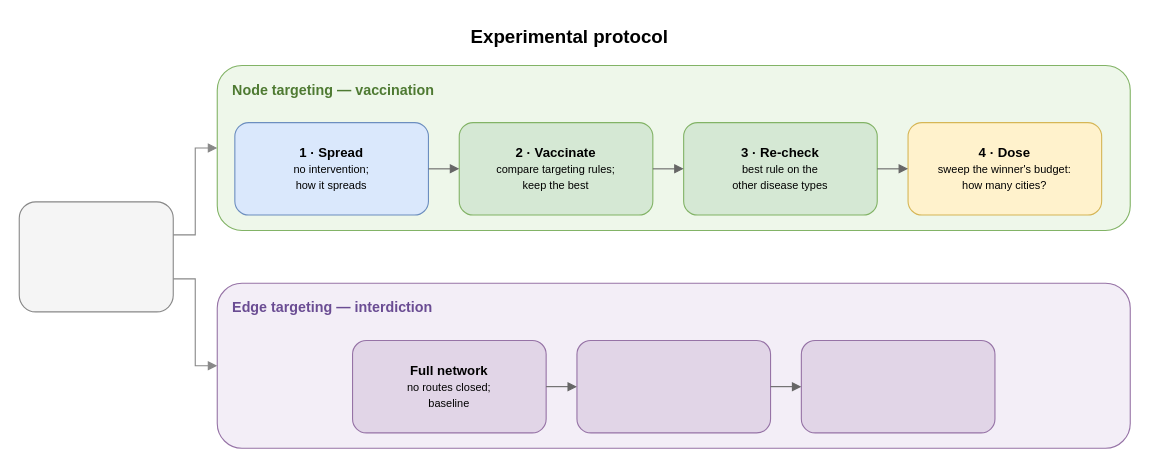
Image size: 1150x468. Some labels were removed from this diagram. The shapes that lost their labels are listed below. From the top down, each one's centre as x and y in pixels, then its label:
the point at 95,256: Multilayer network
the point at 673,386: Close air ground every flight; land + water remain
the point at 897,386: Also close ferries shut water routes too; only land left
